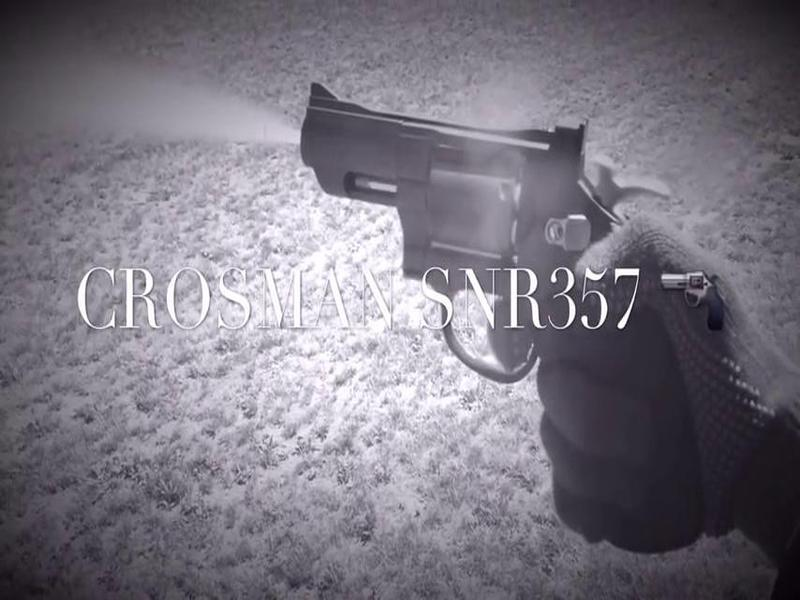Revolver: (297, 78, 693, 551)
